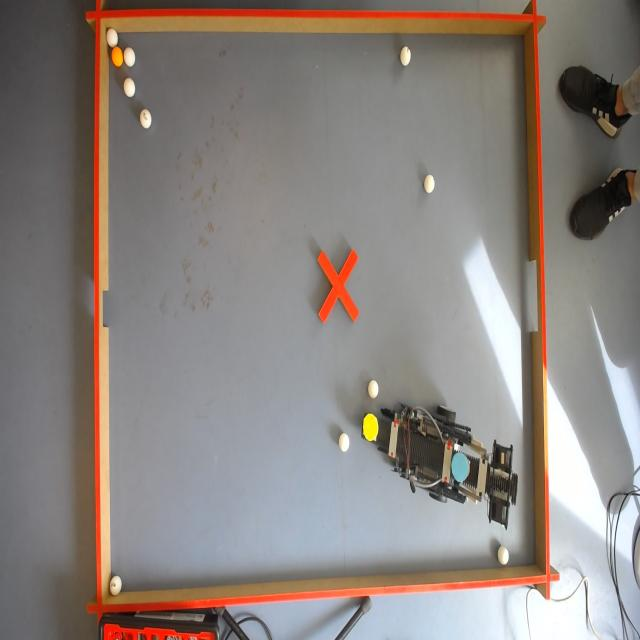orange: (113, 47, 125, 67)
robot: (361, 402, 520, 527)
robot-front: (362, 415, 378, 440)
robot-rear: (449, 448, 470, 485)
white: (498, 544, 513, 566), (138, 109, 151, 131), (122, 49, 136, 68), (110, 577, 124, 595), (423, 175, 436, 194), (123, 80, 136, 99), (401, 45, 413, 65), (338, 433, 350, 453), (106, 27, 117, 47), (368, 380, 380, 398)
